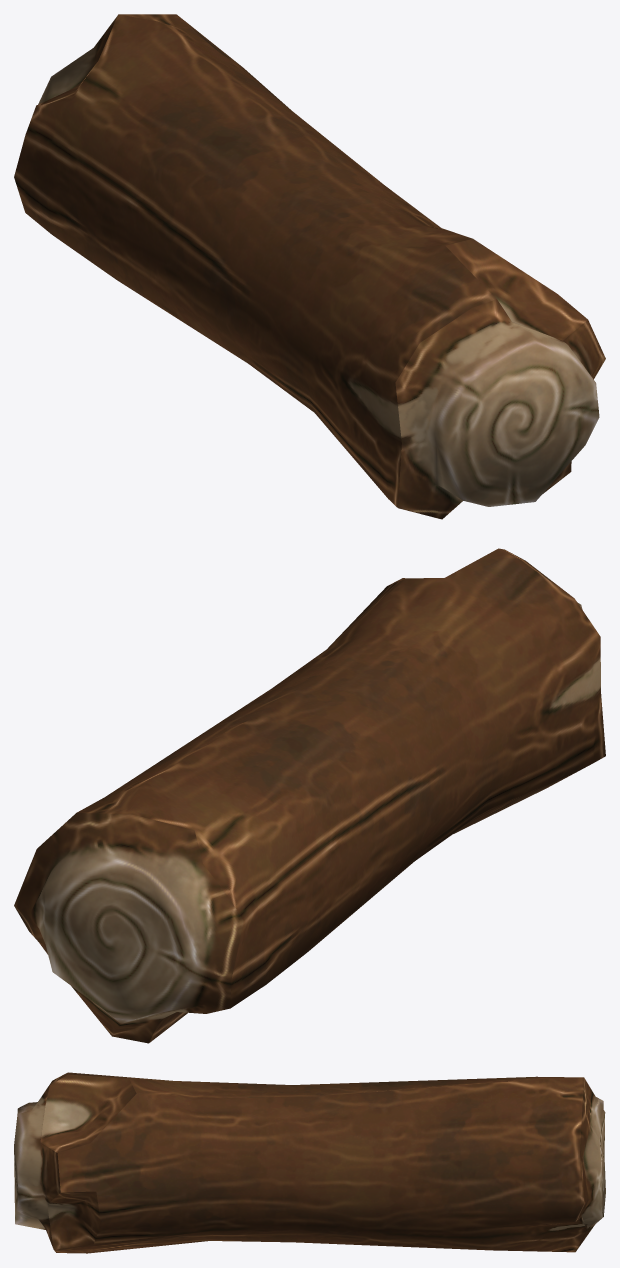
Rendered from WOOD1.FBX.
3 views of the same model, one above another, from view 1: azimuth 30°, elevation 25°; view 2: azimuth 150°, elevation 25°; view 3: azimuth 270°, elevation 25° (orthographic). The views are drawn at different scales.
Visible parts, largest first — view 1: wood1_LOD0; view 2: wood1_LOD0; view 3: wood1_LOD0.
Boxes of the visible parts, <box> form: wood1_LOD0: <box>14,14,605,519</box>; wood1_LOD0: <box>14,548,605,1043</box>; wood1_LOD0: <box>14,1072,605,1253</box>.
Size of what is drawn, in the model's own units: 20.55 by 21.26 by 66.75.
